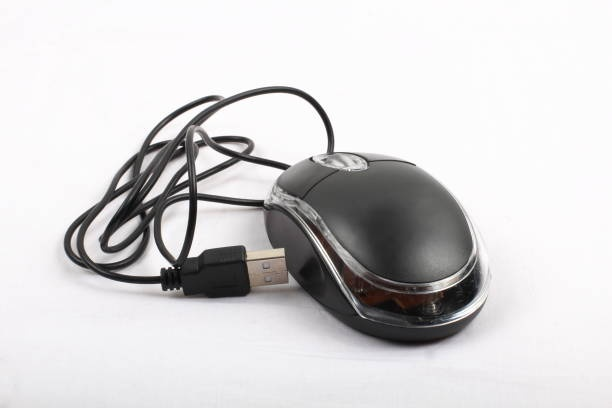mouse: (264, 139, 493, 345)
